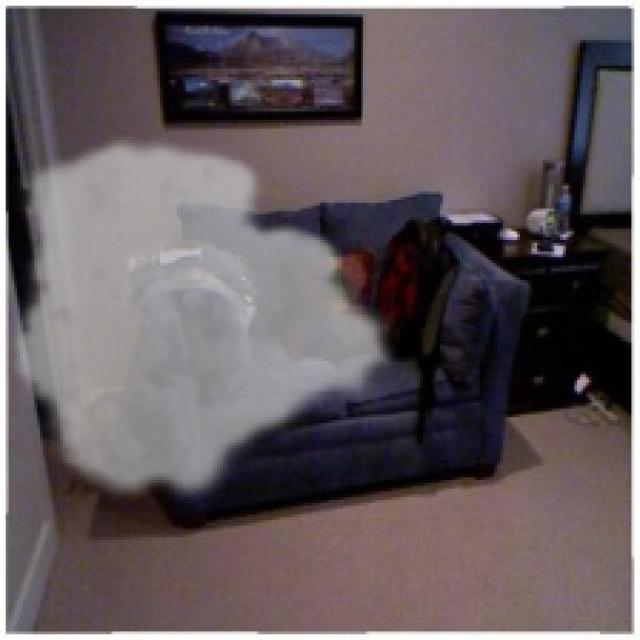smoke: (9, 134, 400, 509)
